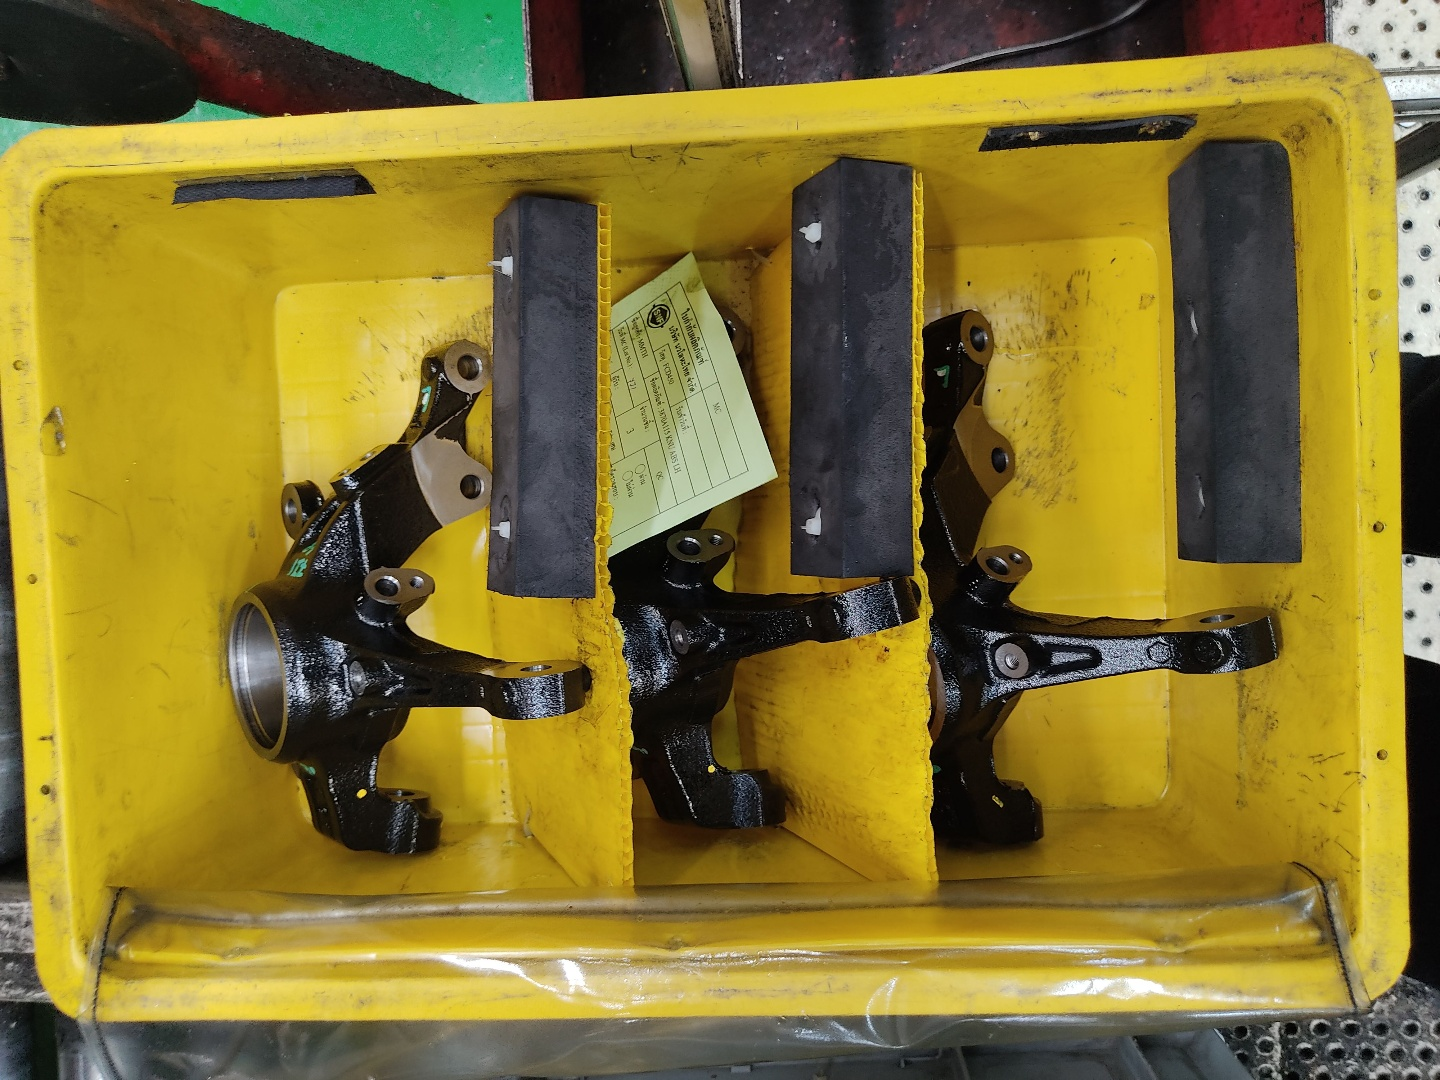abs-lh: (924, 278, 1291, 864), (225, 336, 594, 864), (601, 282, 922, 839)
